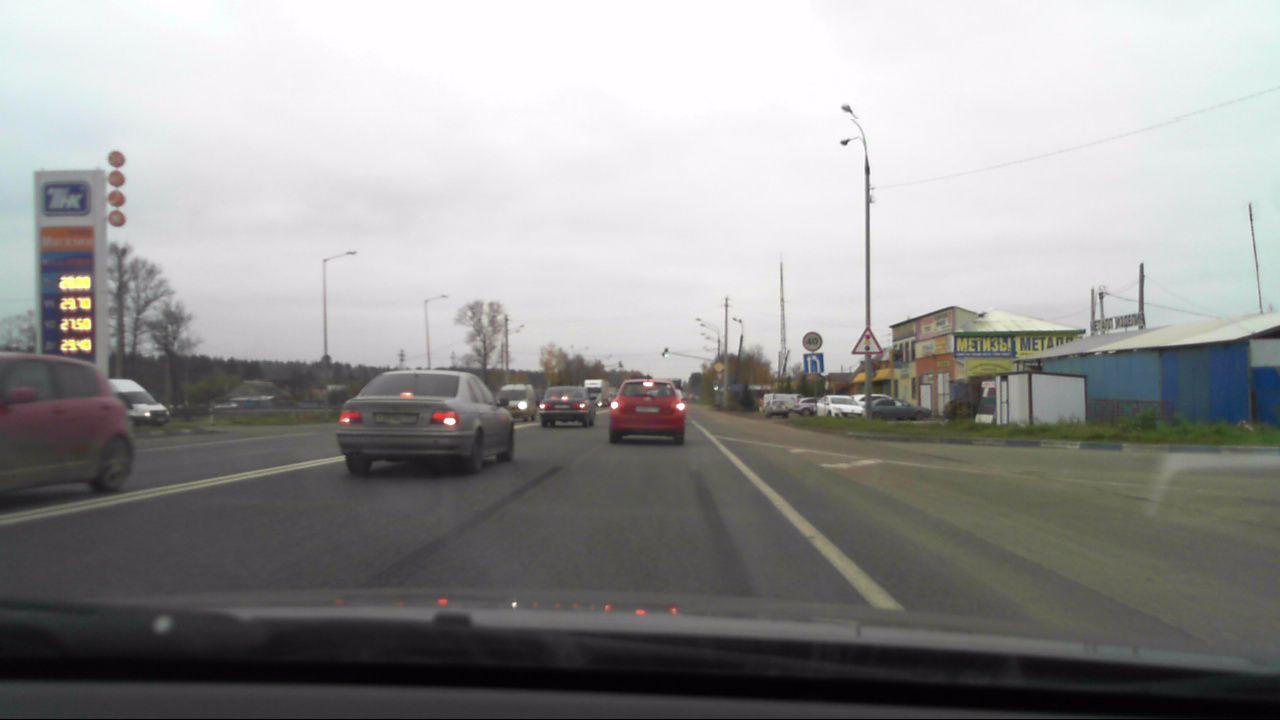1_8: (851, 327, 880, 354)
2_1: (713, 361, 725, 372)
3_24: (801, 331, 823, 352)
5_15_5: (802, 353, 825, 374)
